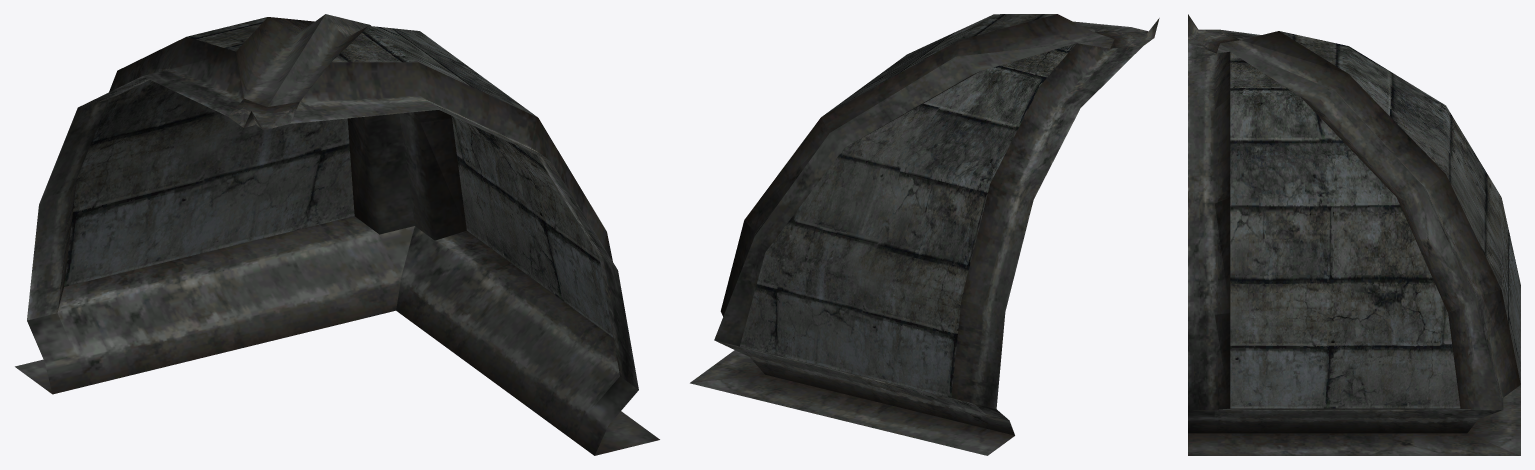
Rendered from corner_concave_short_flat.dae.
3 renders of one model, left to right at view 1: azimuth 30°, elevation 25°; view 2: azimuth 150°, elevation 25°; view 3: azimuth 270°, elevation 25°, orthographic. The views are drawn at different scales.
Visible parts, largest first — view 1: polySurface2, polySurface17; view 2: polySurface17, polySurface2; view 3: polySurface17, polySurface2.
Boxes of the visible parts, left/top/right/bottom form: polySurface2: left=15, top=14, right=659, bottom=455; polySurface17: left=64, top=17, right=613, bottom=337; polySurface17: left=740, top=14, right=1076, bottom=397; polySurface2: left=690, top=14, right=1159, bottom=455; polySurface17: left=1230, top=31, right=1520, bottom=408; polySurface2: left=1188, top=14, right=1520, bottom=455.
Bounding box in the file's own units: 2 × 2 × 2.
